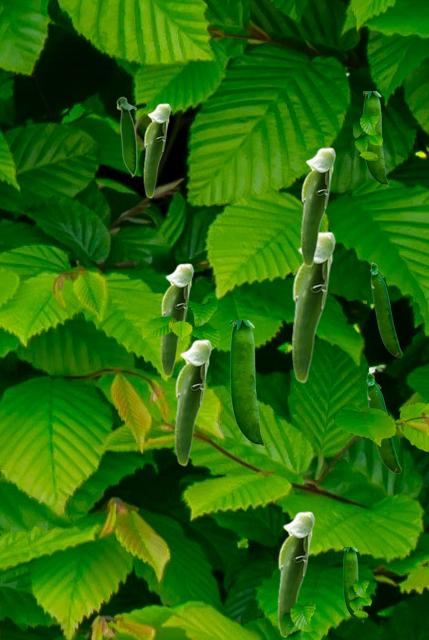pea: (291, 231, 335, 382), (174, 339, 211, 465), (277, 511, 314, 637), (300, 147, 335, 266), (230, 320, 263, 446), (160, 263, 193, 376), (366, 372, 400, 472), (370, 262, 401, 356), (143, 103, 170, 197), (363, 91, 387, 185), (116, 96, 136, 177), (343, 547, 362, 621)
